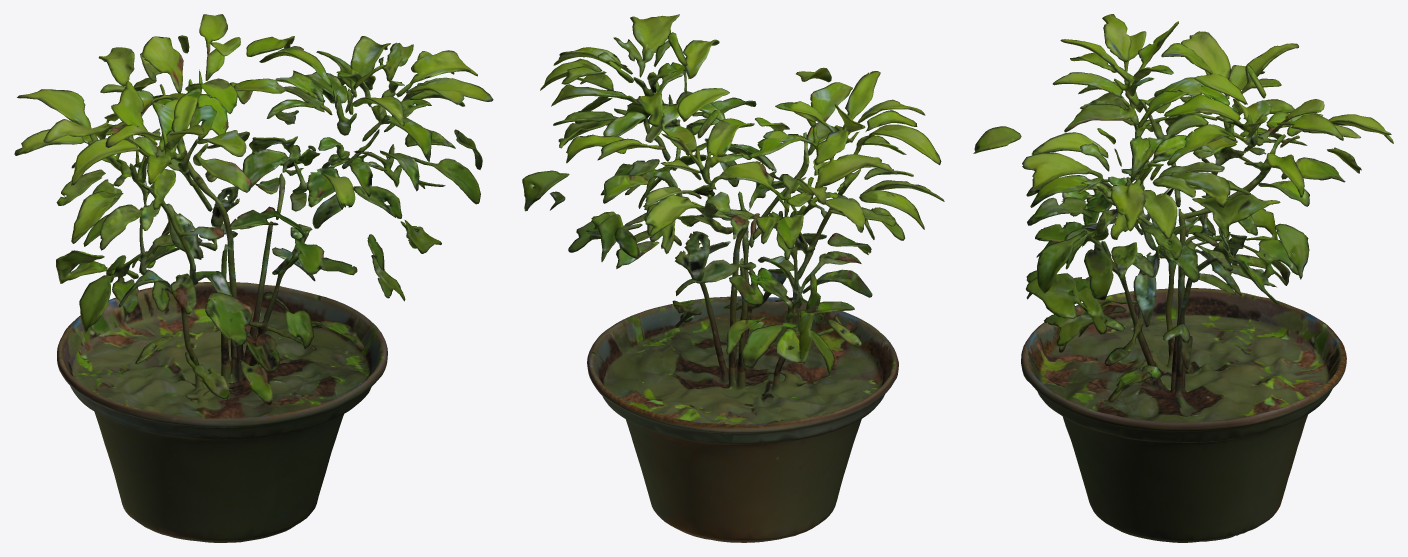
The model's file is tree0026.gltf.
3 views of the same model, side by side, from view 1: azimuth 30°, elevation 25°; view 2: azimuth 150°, elevation 25°; view 3: azimuth 270°, elevation 25° (orthographic). The views are drawn at different scales.
Visible parts, largest first — view 1: Mesh_0; view 2: Mesh_0; view 3: Mesh_0.
Boxes of the visible parts, x1,y1,x2,y2 form: Mesh_0: [14, 14, 493, 542]; Mesh_0: [522, 14, 944, 542]; Mesh_0: [973, 14, 1393, 542].
Size of the model in its own units: 1.89 by 1.99 by 1.72.
1 material, 1 textured.
